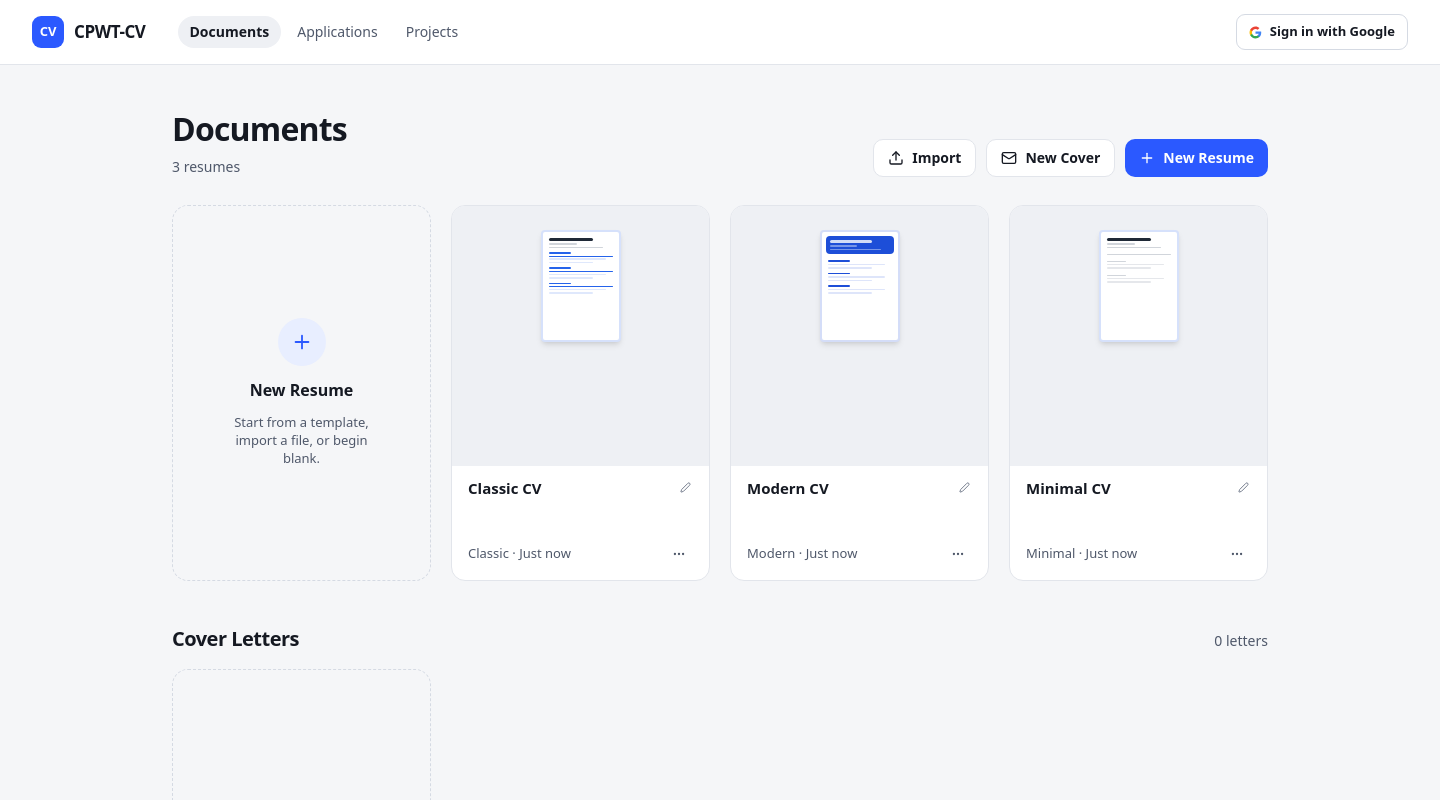
Test: dashboard — with résumés › deleting every résumé leaves the empty dashboard
Expected: the heading "Documents" is shown, [172,105,347,153]
Click the button with test id "resume-card-more" at point(679, 554), box [665,540,693,568]
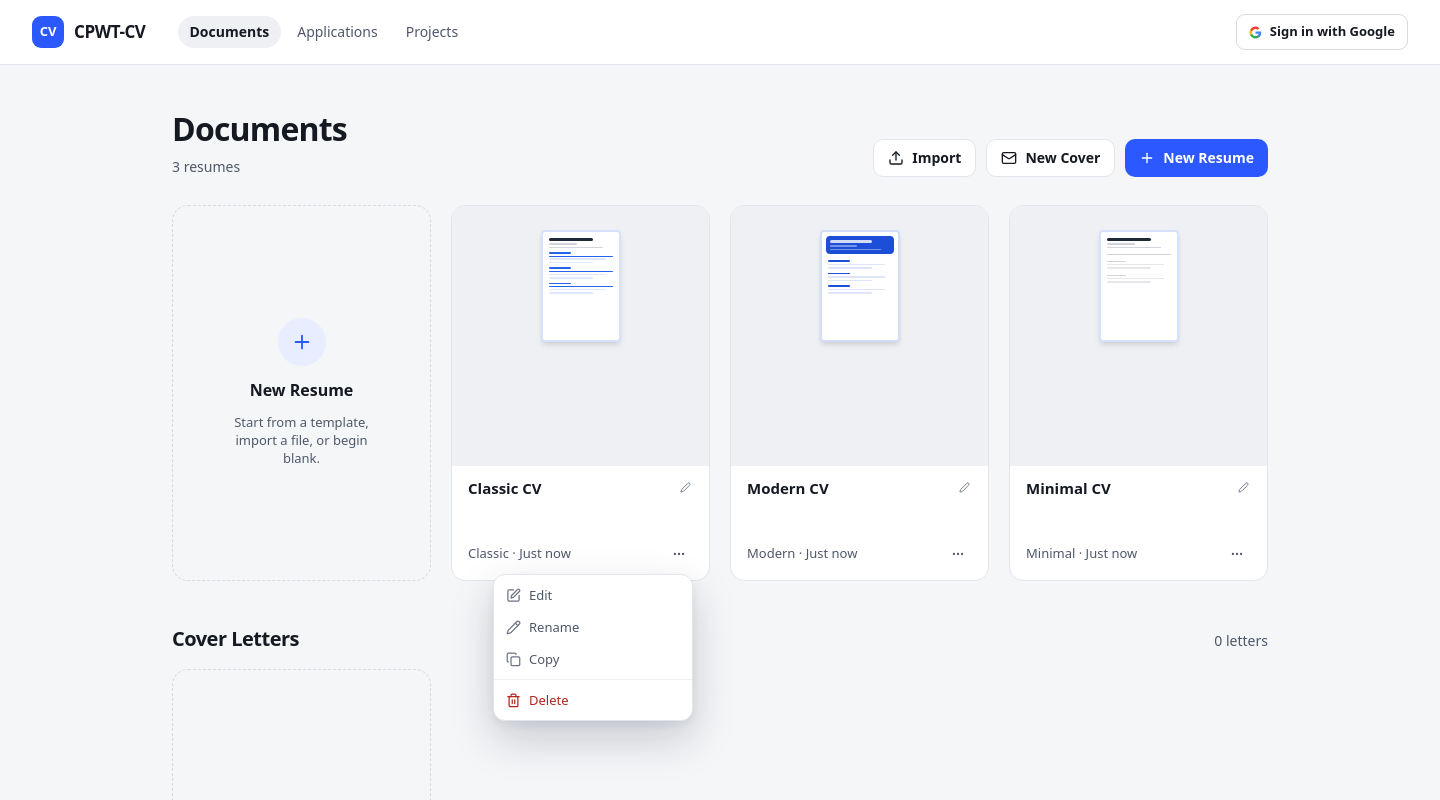
Click the menu item "Delete" at point(593, 700), box [498,684,688,716]
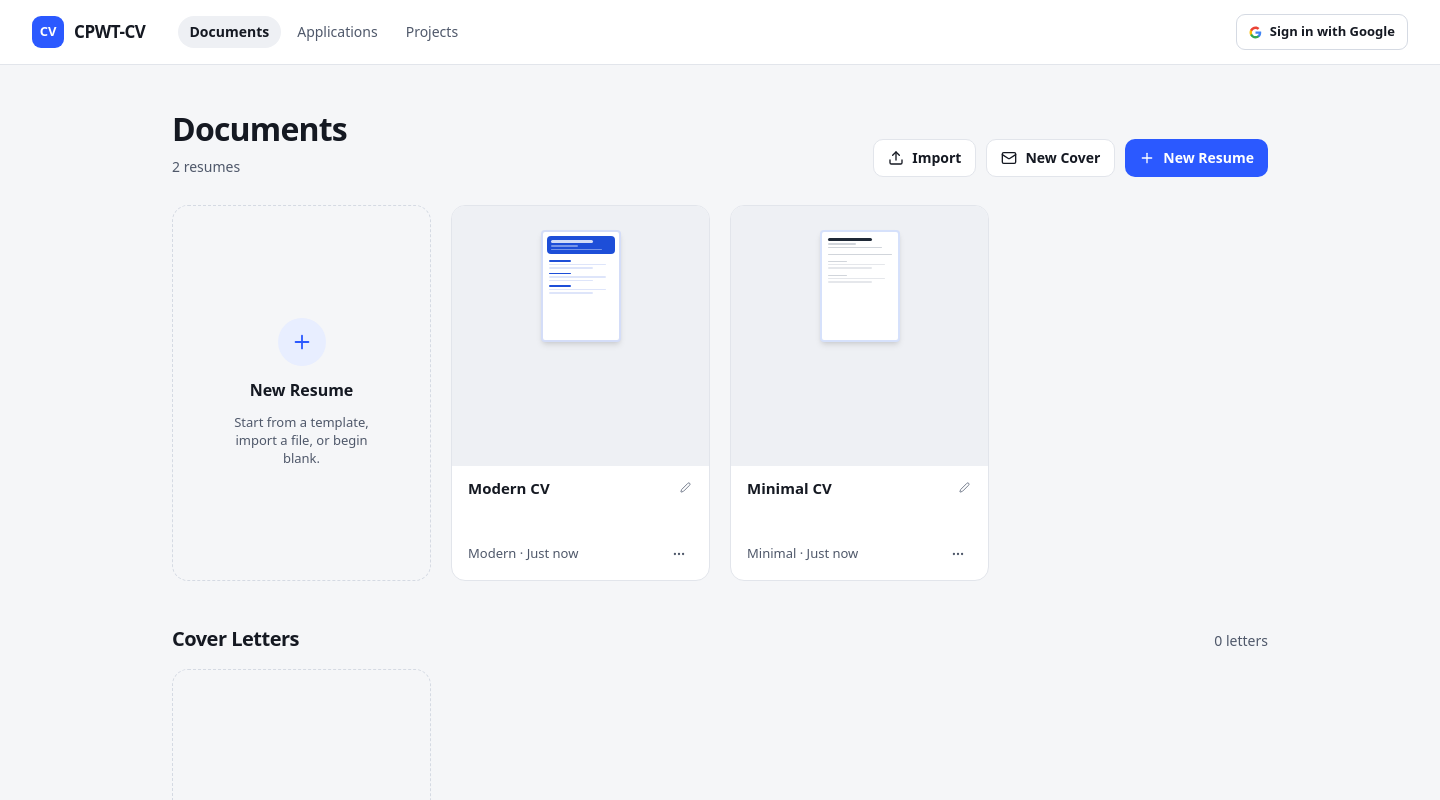
Click the button with test id "resume-card-more" at point(679, 554), box [665,540,693,568]
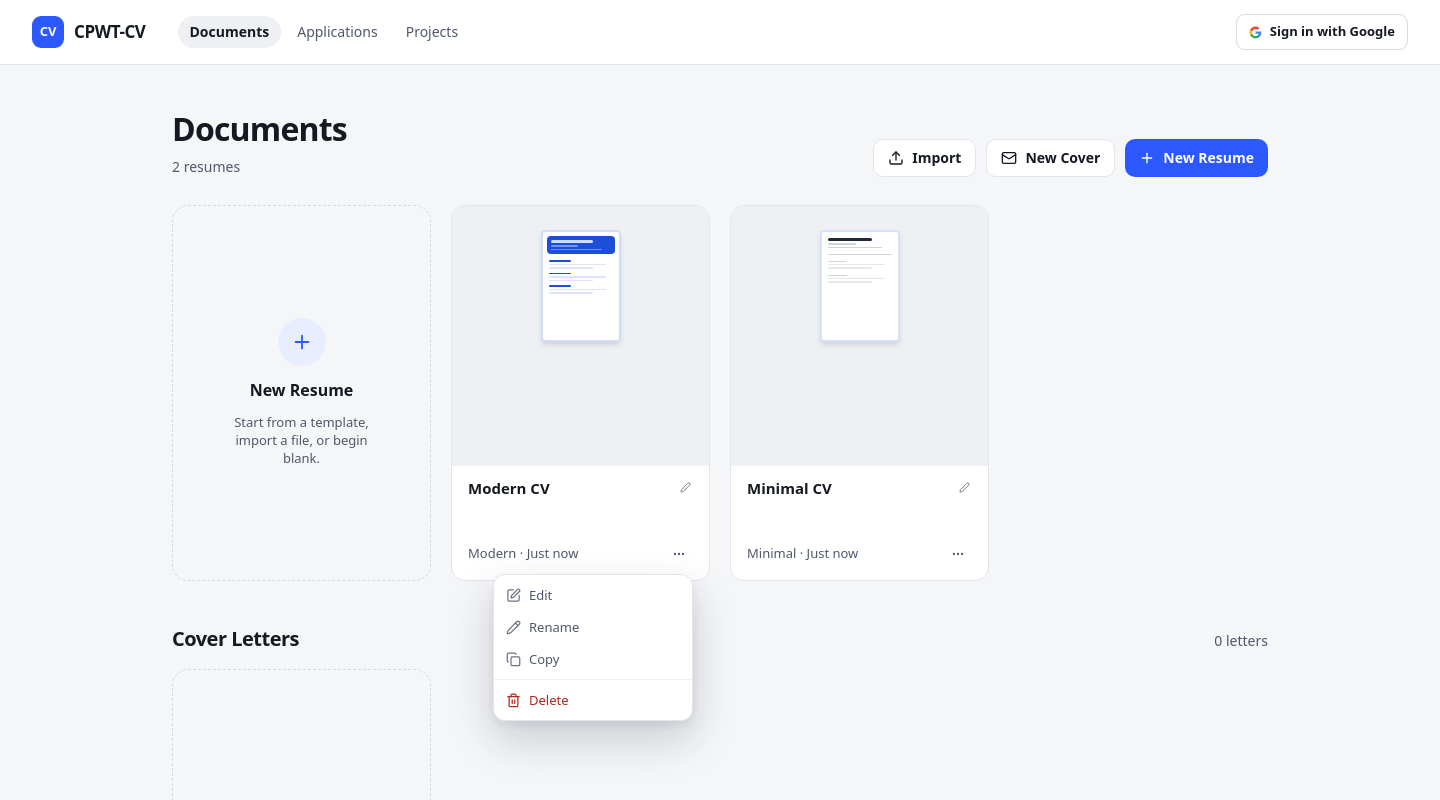
Click the menu item "Delete" at point(593, 700), box [498,684,688,716]
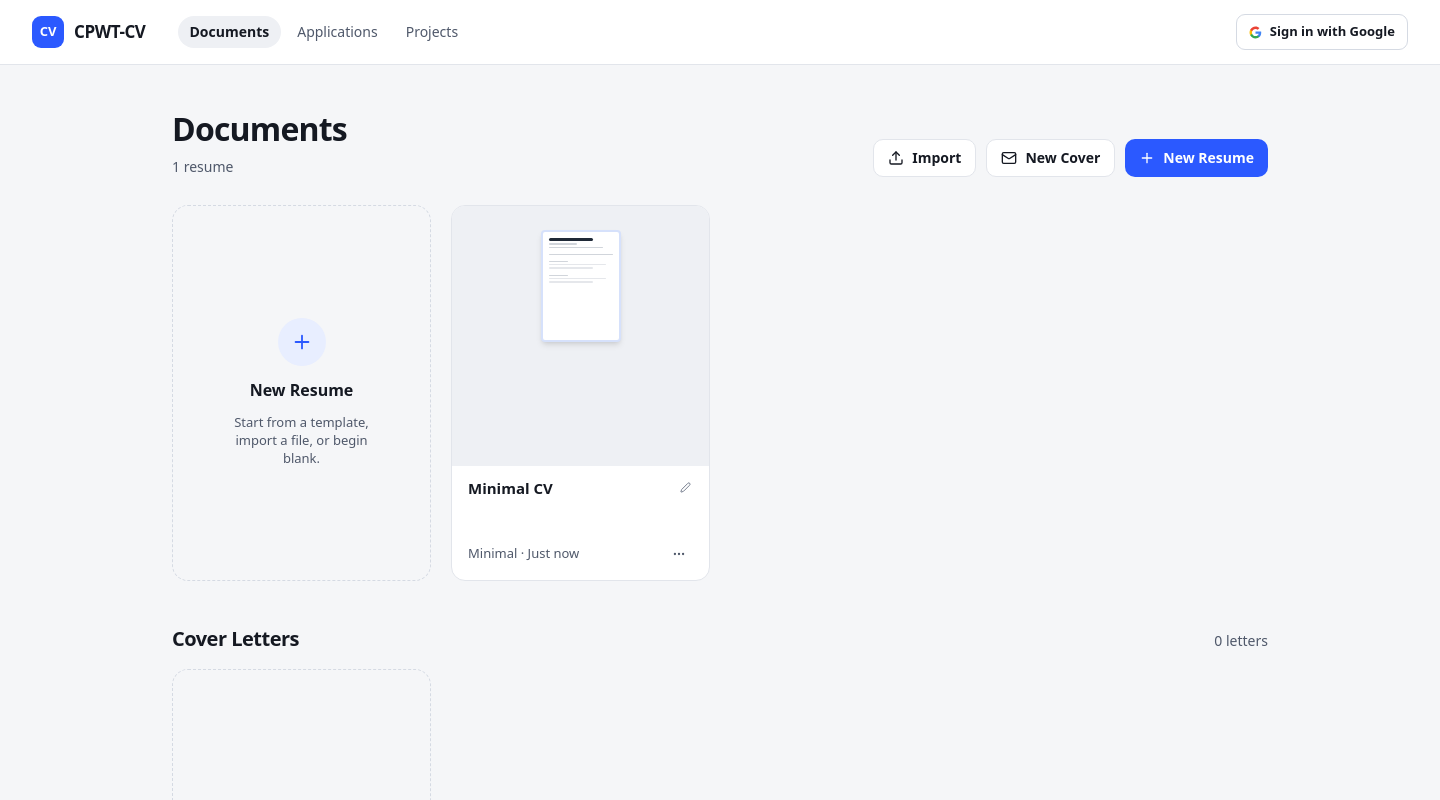
Click the button with test id "resume-card-more" at point(679, 554), box [665,540,693,568]
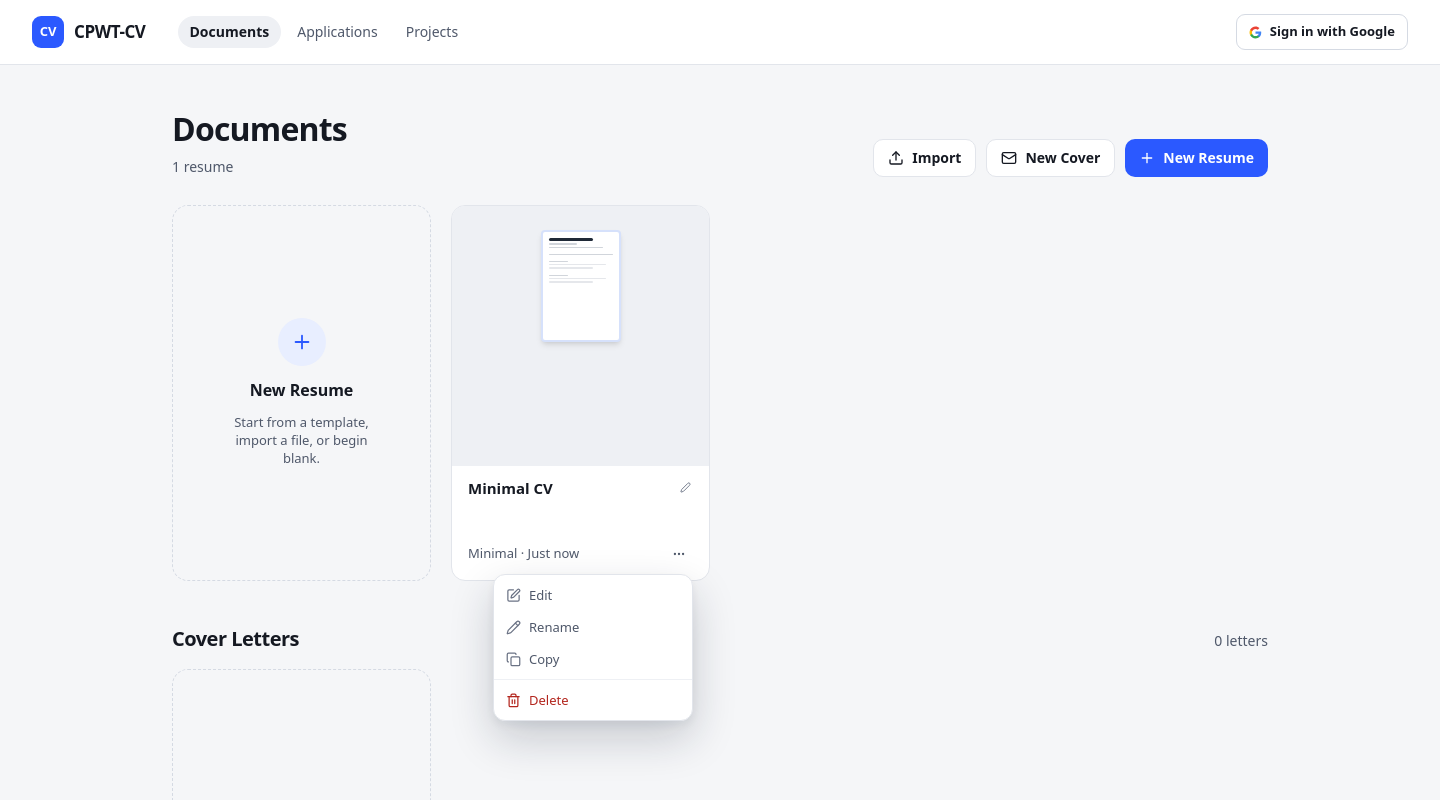
Click the menu item "Delete" at point(593, 700), box [498,684,688,716]
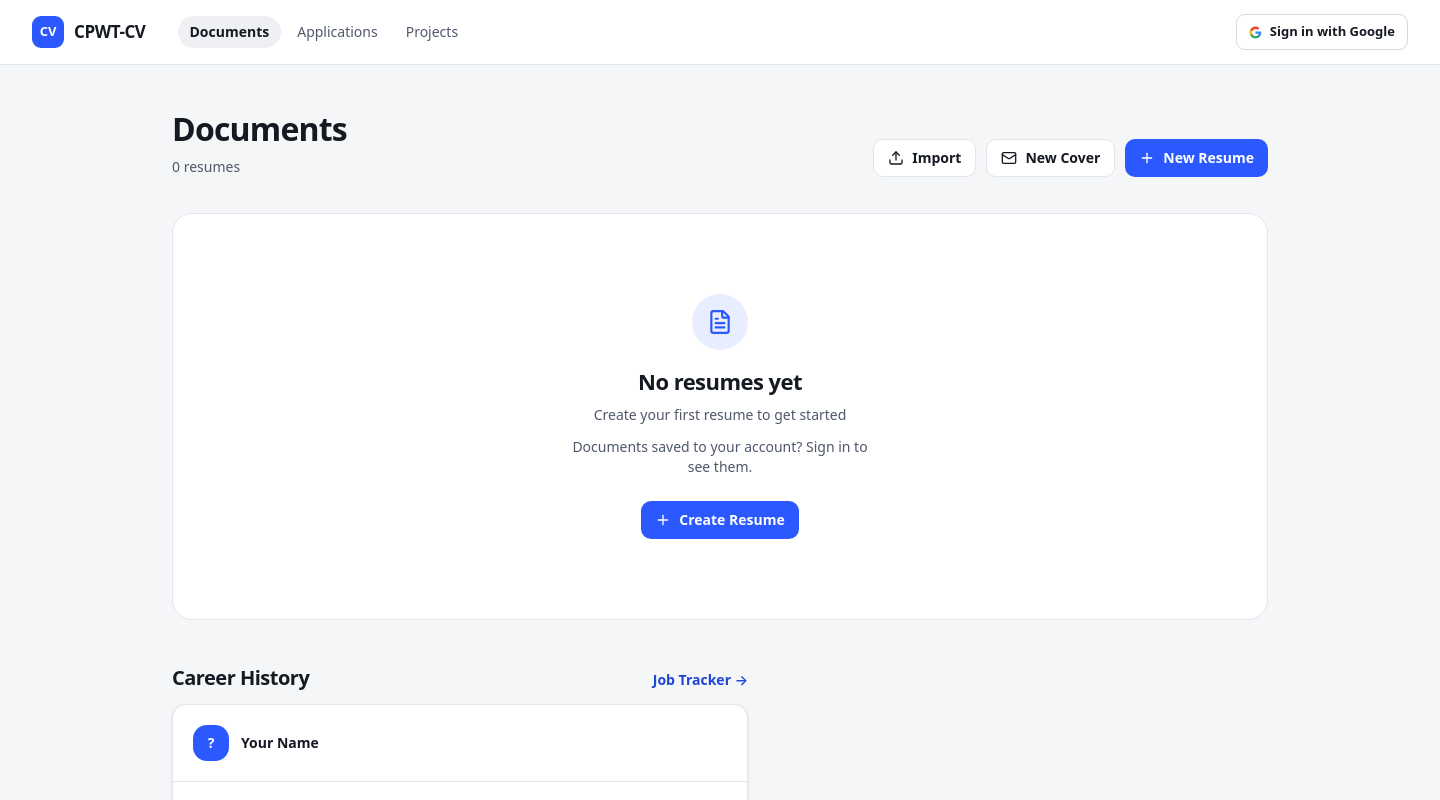
Result: the heading "No resumes yet" is shown at [638,366,802,397]
